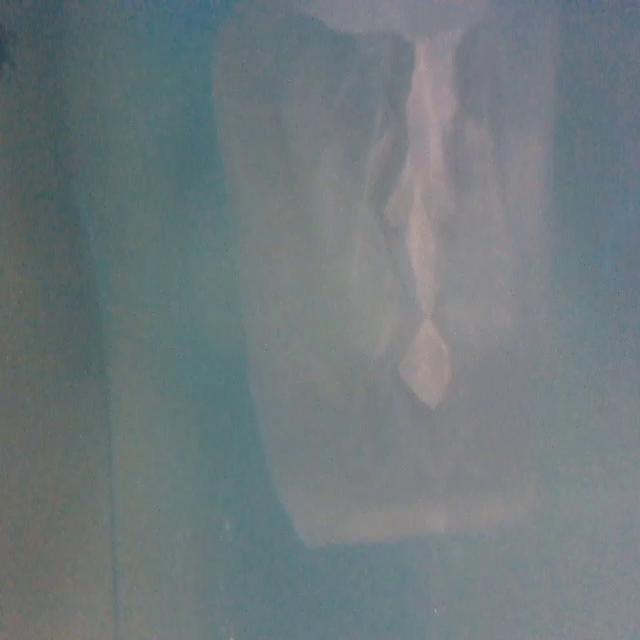plastic bags: (213, 0, 566, 568)
